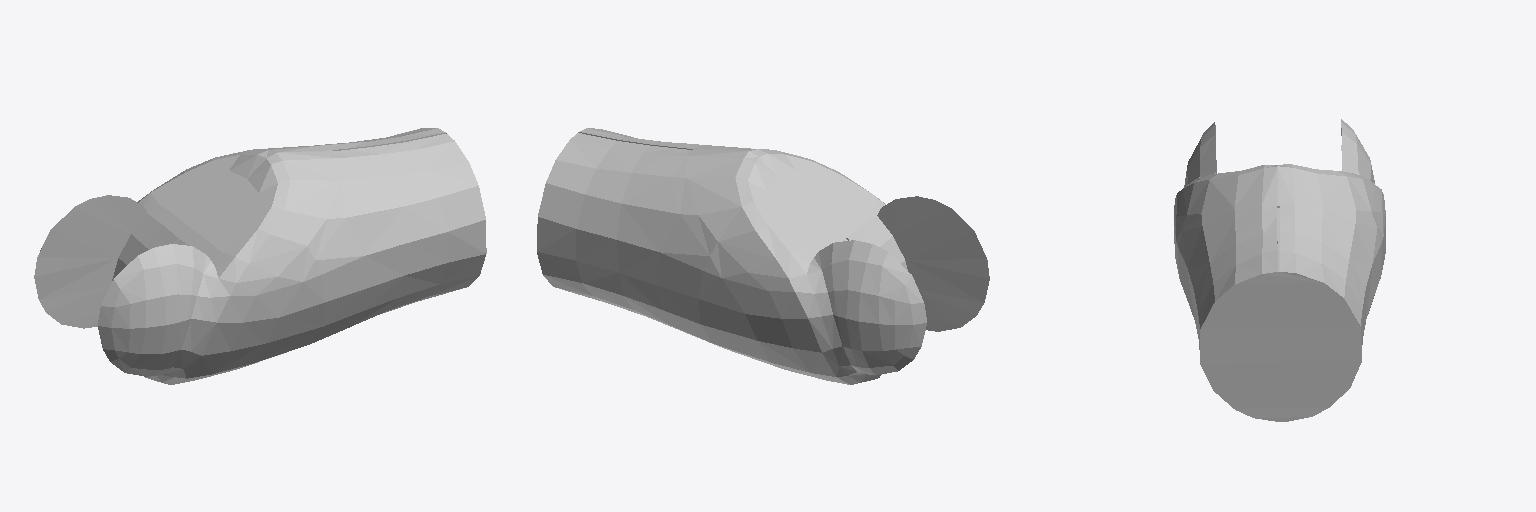
The model's file is RElbowRoll.obj.
3 views of the same model, side by side, from view 1: azimuth 30°, elevation 25°; view 2: azimuth 150°, elevation 25°; view 3: azimuth 270°, elevation 25° (orthographic).
Visible parts, largest first — view 1: default; view 2: default; view 3: default.
Part boxes in pixels (x1,y1,x2,y2): default: (34,128,486,384); default: (537,128,989,384); default: (1174,119,1385,421).
Bounding box in the file's own units: 0.1499 × 0.0747 × 0.0725.